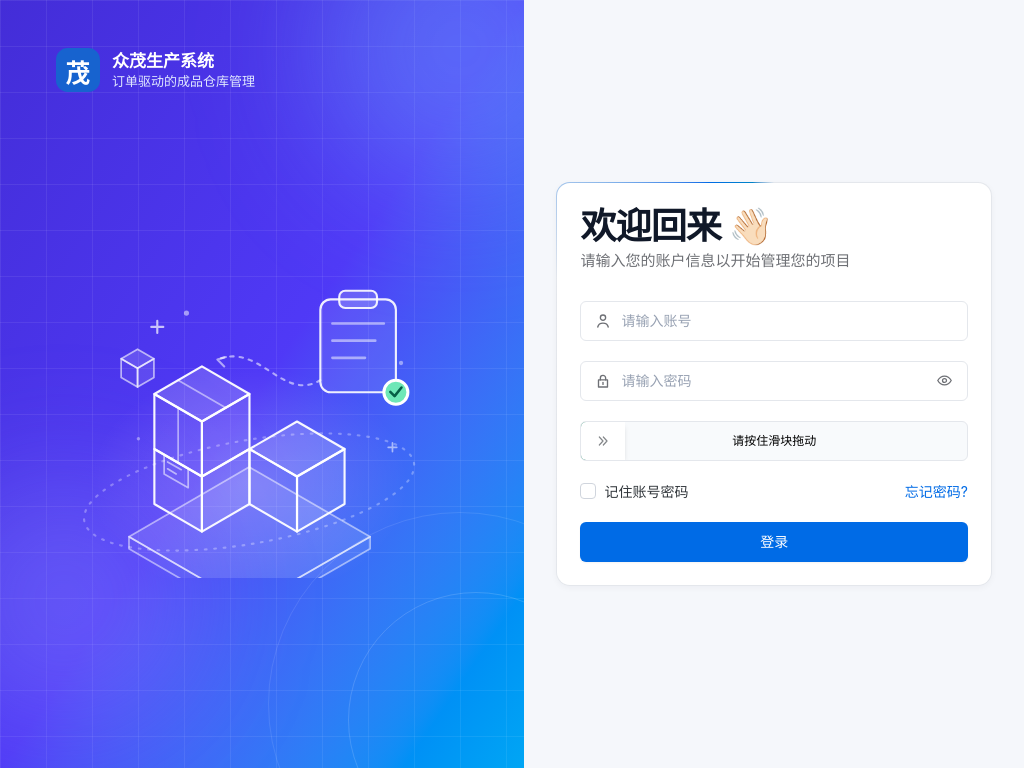
Test: LoginPage › shows inline required errors (fields + captcha) and focuses the first invalid field
Click the button "登录".
click(774, 542)  # box x1=580 y1=522 x2=968 y2=562
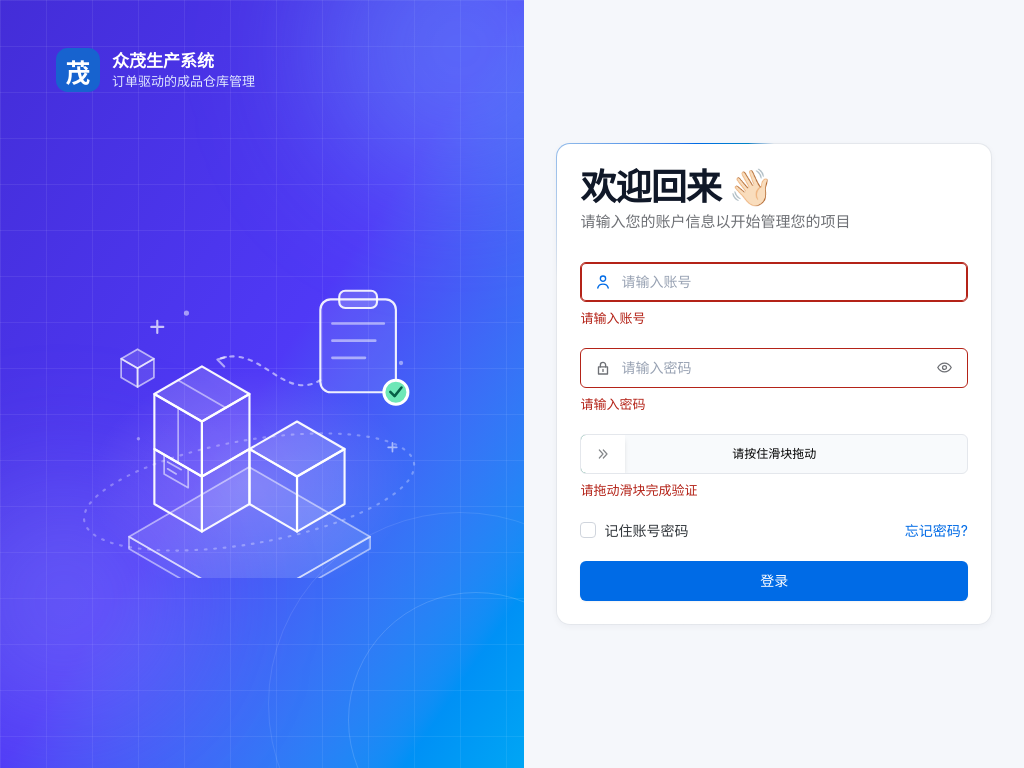
Check: the text "请输入账号" is shown, box x1=580 y1=310 x2=646 y2=326
Check: the text "请输入密码" is shown, box x1=580 y1=396 x2=646 y2=412
Check: the text "请拖动滑块完成验证" is shown, box x1=580 y1=482 x2=698 y2=498
